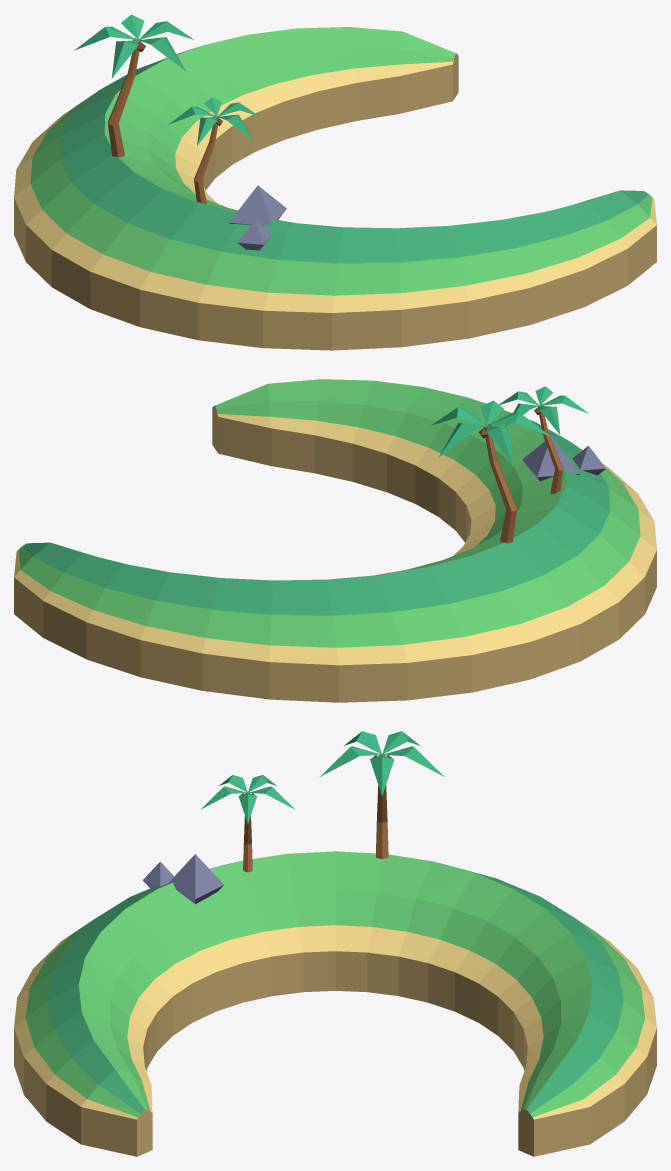
The model's file is island-crescent-lagoon.glb.
3 views of the same model, one above another, from view 1: azimuth 30°, elevation 25°; view 2: azimuth 150°, elevation 25°; view 3: azimuth 270°, elevation 25° (orthographic).
Parts seen in each view (by area): view 1: grass, sand_edge, grass_shadow, sand, leaf, rock, trunk; view 2: grass, sand_edge, grass_shadow, sand, leaf, trunk, rock; view 3: grass, sand_edge, sand, grass_shadow, leaf, rock, trunk.
Part boxes in pixels (x1=…): grass: x1=30, y1=27, x2=652, y2=295; sand_edge: x1=14, y1=53, x2=656, y2=350; grass_shadow: x1=60, y1=47, x2=648, y2=263; sand: x1=14, y1=61, x2=656, y2=312; leaf: x1=74, y1=14, x2=259, y2=145; rock: x1=229, y1=185, x2=286, y2=250; trunk: x1=108, y1=39, x2=219, y2=204; grass: x1=18, y1=379, x2=640, y2=647; sand_edge: x1=14, y1=405, x2=656, y2=702; grass_shadow: x1=22, y1=399, x2=610, y2=615; sand: x1=14, y1=414, x2=656, y2=665; leaf: x1=430, y1=386, x2=588, y2=464; trunk: x1=483, y1=405, x2=563, y2=543; rock: x1=522, y1=436, x2=605, y2=481; grass: x1=25, y1=851, x2=645, y2=1117; sand_edge: x1=14, y1=951, x2=656, y2=1156; sand: x1=14, y1=925, x2=656, y2=1119; grass_shadow: x1=47, y1=863, x2=623, y2=1113; leaf: x1=201, y1=731, x2=444, y2=824; rock: x1=143, y1=854, x2=223, y2=904; trunk: x1=243, y1=753, x2=388, y2=872.
Bounding box in the file's own units: 10.13 × 4.13 × 11.01.
